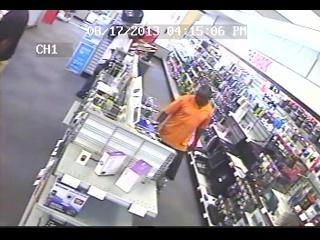Normal: (154, 84, 215, 182)
